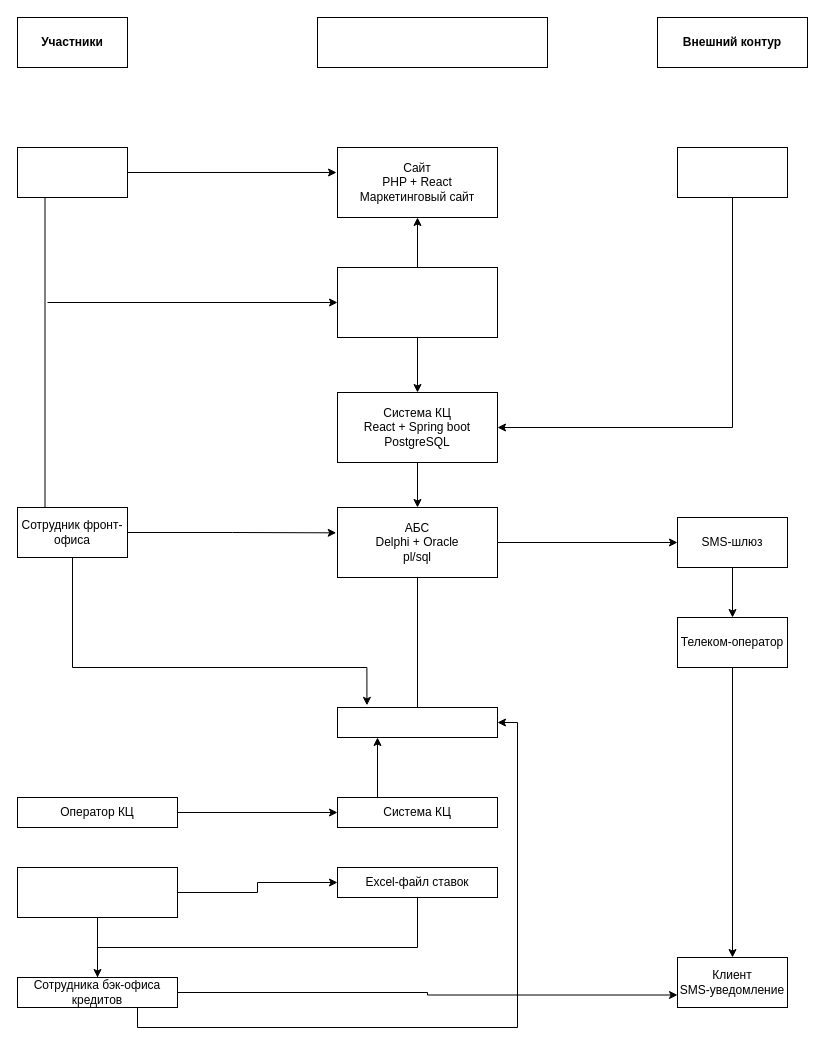
Some shapes in this 825 by 1053 pixel diagram are drawn without their labels. Each missing label, with the centre of its shape:
"Email" goes at point (417, 722).
"Интернет-банк ASP.NET MVC 4.5 .NET Framework 4.5 MS SQL" goes at point (417, 302).
"Каналы и системы банка" goes at point (432, 42).
"Клиент" goes at point (72, 172).
"Партнерский КЦ" goes at point (732, 172).
"Сотрудник бэк-офиса депозитов" goes at point (97, 892).
